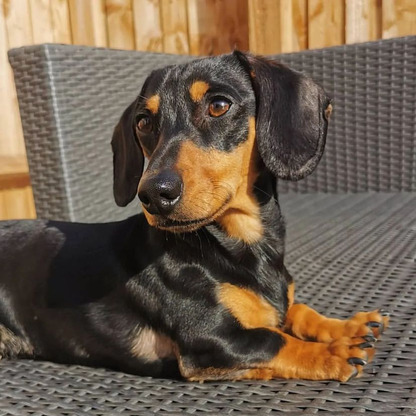dachshund: (23, 59, 389, 395)
